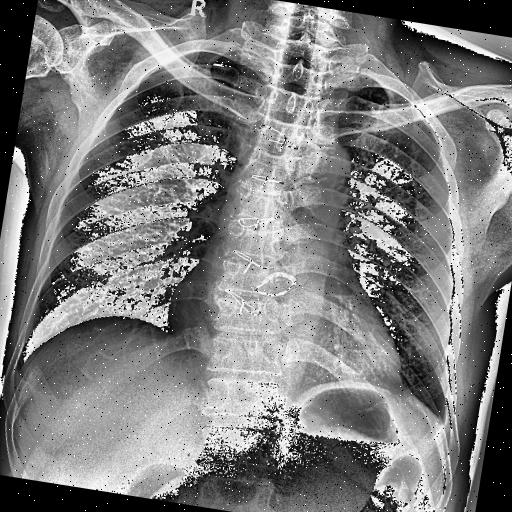10- Pleural effusion: (420, 392, 464, 436)
11- Pleural thickening: (376, 374, 463, 448)
3- Cardiomegaly: (134, 249, 434, 398)
8- Nodule-Mass: (350, 90, 393, 118), (373, 136, 406, 160)
9- Other lesion: (205, 97, 334, 337), (216, 240, 308, 326), (232, 205, 290, 240), (248, 120, 306, 152), (248, 166, 288, 196)
